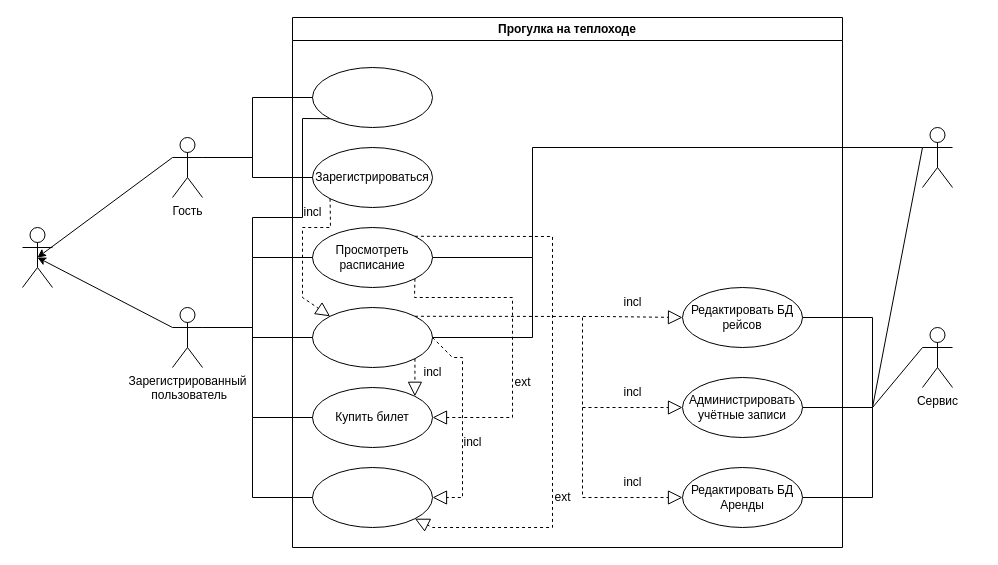
Some shapes in this 998 by 565 pixel diagram are drawn without their labels. Here are the shapes that lost their labels. From the top down, the centre of each, then its label:
At [372,97]: "Узнать о кампании".
At [937,157]: "Администратор".
At [37,257]: "Клиент".
At [372,337]: "Авторизоваться".
At [372,497]: "Арендовать теплоход".
